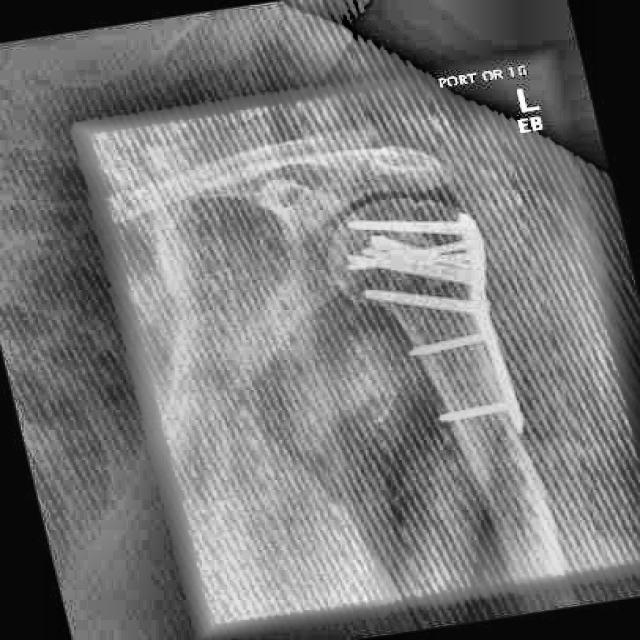shoulder fracture: (385, 182, 441, 221)
